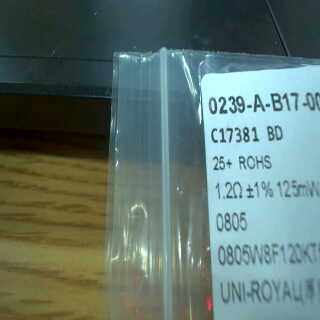1.2R: (207, 176, 250, 237)
